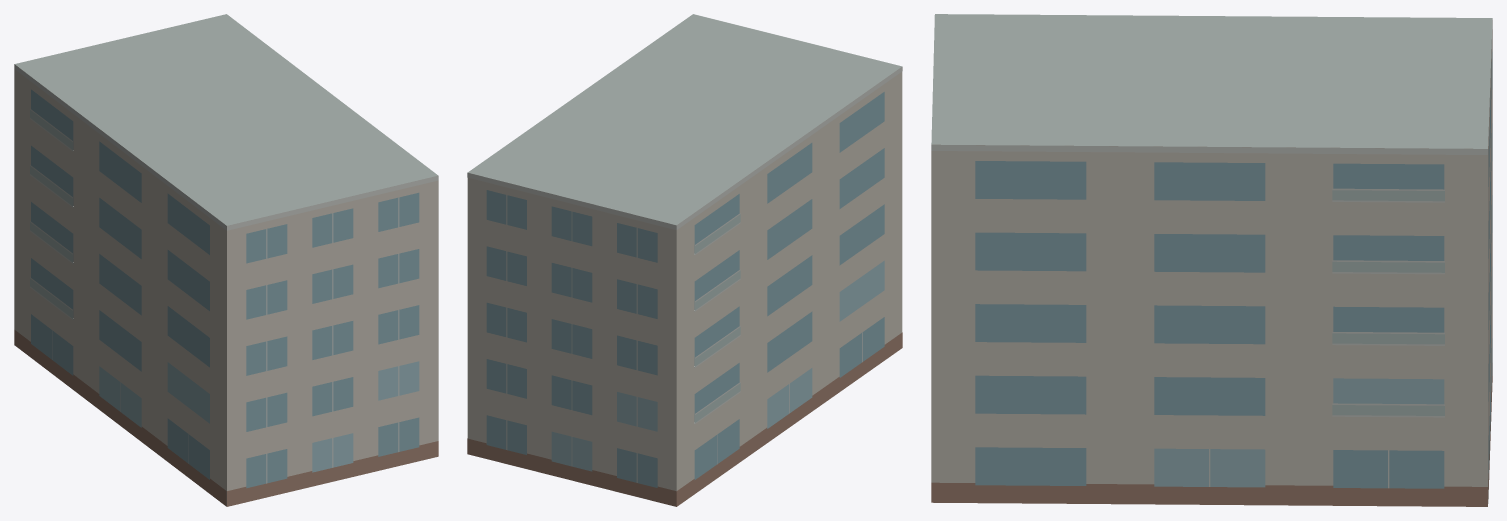
Rendered from survey-upis-32771286.glb.
The picture shows the model from 3 angles, left to right: view 1: azimuth 30°, elevation 25°; view 2: azimuth 150°, elevation 25°; view 3: azimuth 270°, elevation 25°; orthographic projection. The views are drawn at different scales.
Parts seen in each view (by area): view 1: survey-upis-32771286.tmp; view 2: survey-upis-32771286.tmp; view 3: survey-upis-32771286.tmp.
Part boxes in pixels (x1=…): survey-upis-32771286.tmp: x1=14, y1=14, x2=438, y2=506; survey-upis-32771286.tmp: x1=467, y1=14, x2=902, y2=506; survey-upis-32771286.tmp: x1=931, y1=14, x2=1492, y2=506.
Bounding box in the file's own units: 11.33 × 14 × 19.9.
